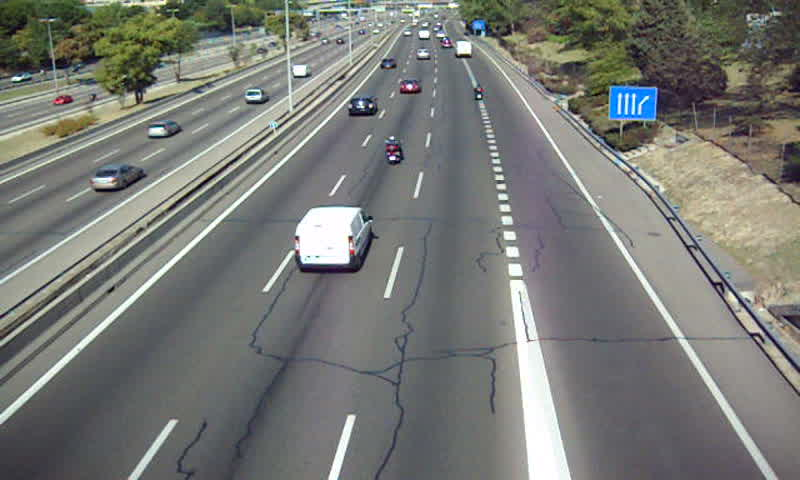car: (346, 94, 380, 118), (398, 79, 420, 94), (379, 57, 396, 70), (415, 47, 430, 60)
motorcycle: (384, 134, 401, 167), (474, 83, 484, 104)
van: (293, 206, 373, 273), (456, 40, 473, 58)
